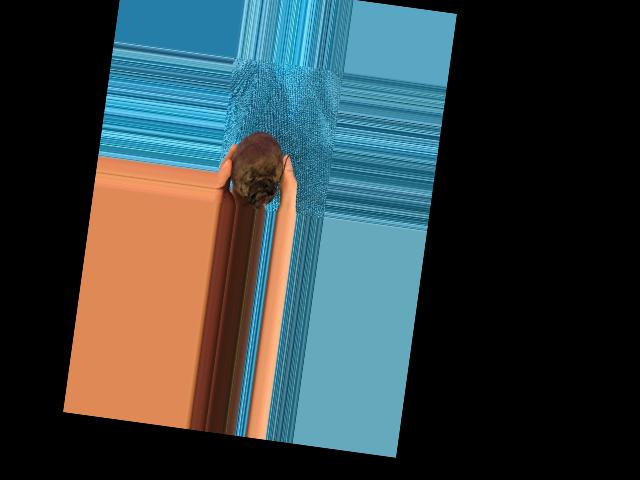beet: (226, 128, 293, 211)
